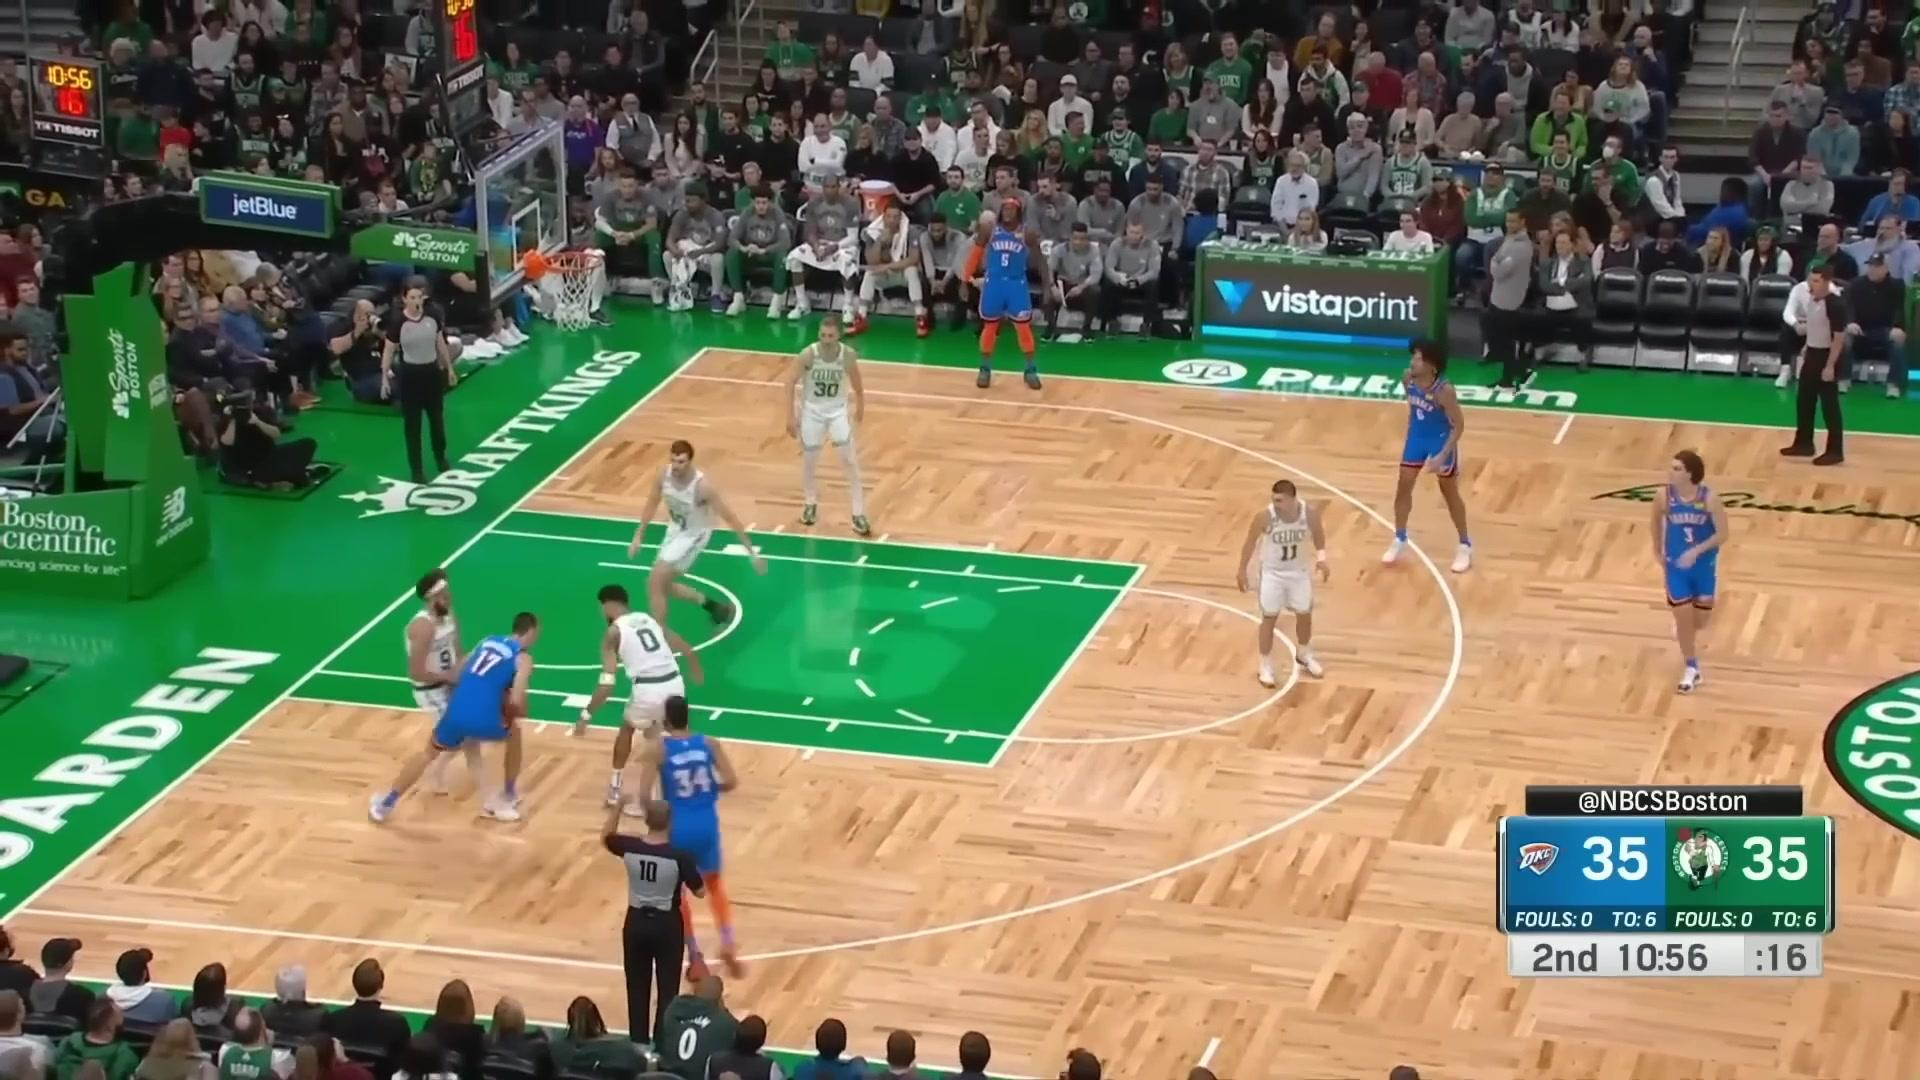foul: (357, 550, 592, 841)
